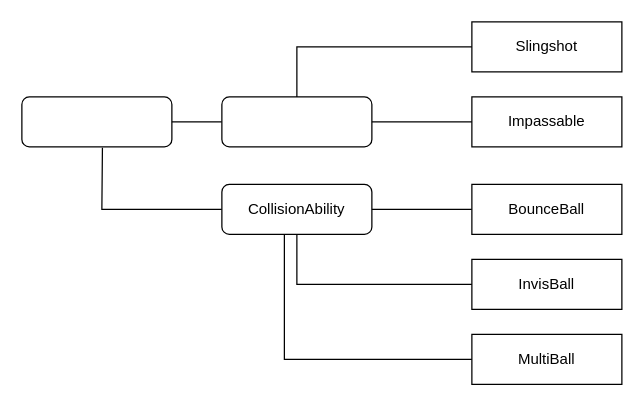
Image size: 644x406. Some labels were removed from this diagram. Each missing label, with the centre of its shape:
Ability: the point at 96,121
TimeAbility: the point at 296,121
